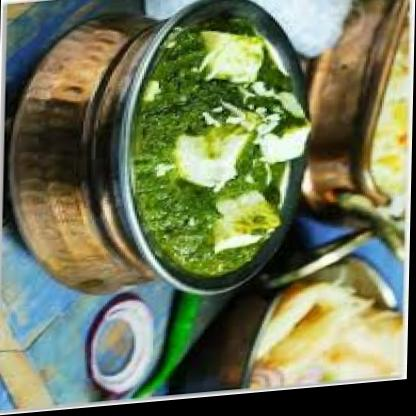palak_paneer: (130, 17, 313, 287)
